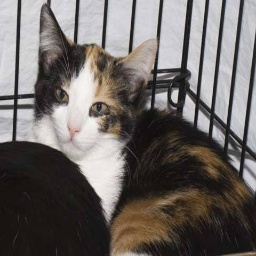cat: (0, 4, 256, 256)
